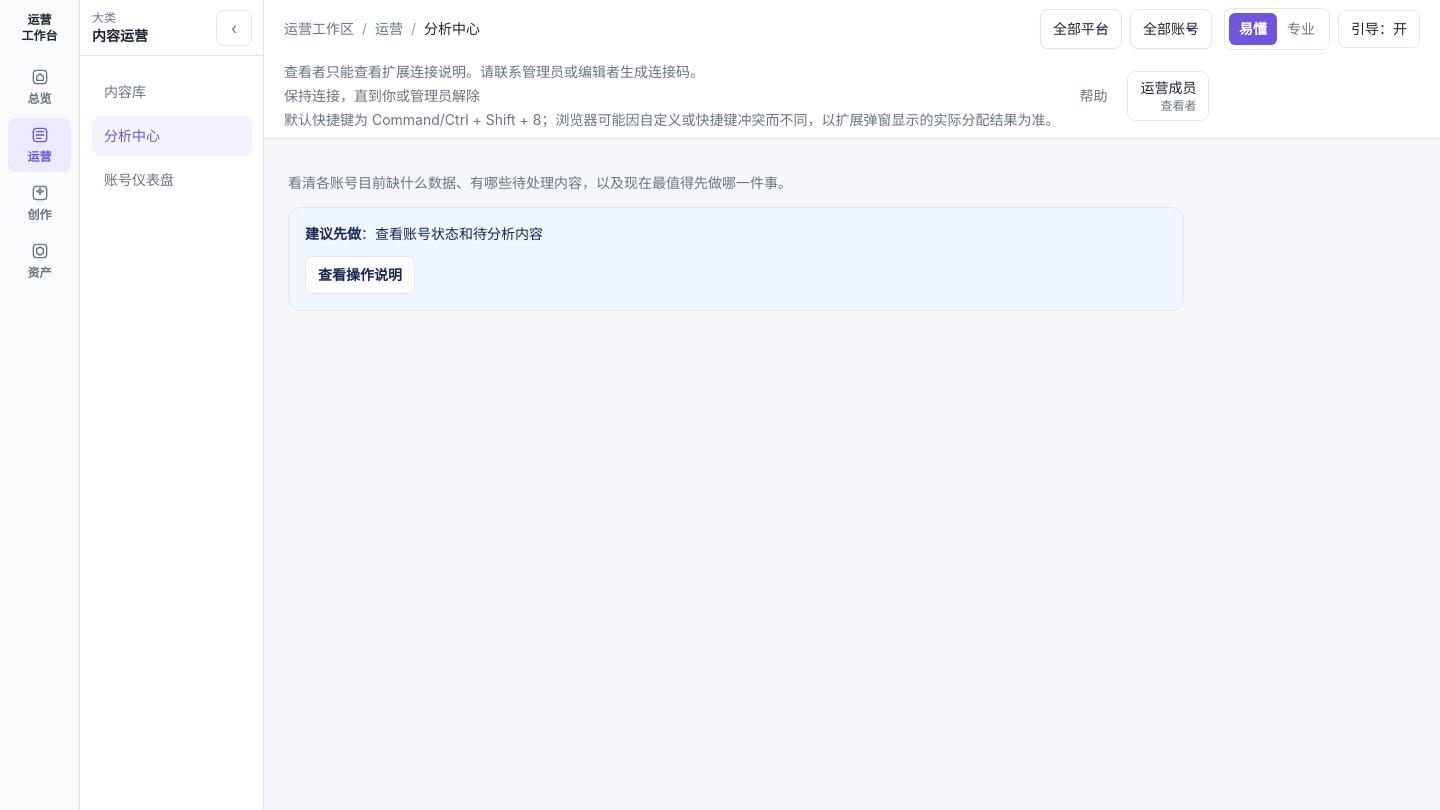
replaces viewer overview blockers with contact guidance
Click the button "查看操作说明".
click(360, 275)  # box [305, 256, 415, 294]
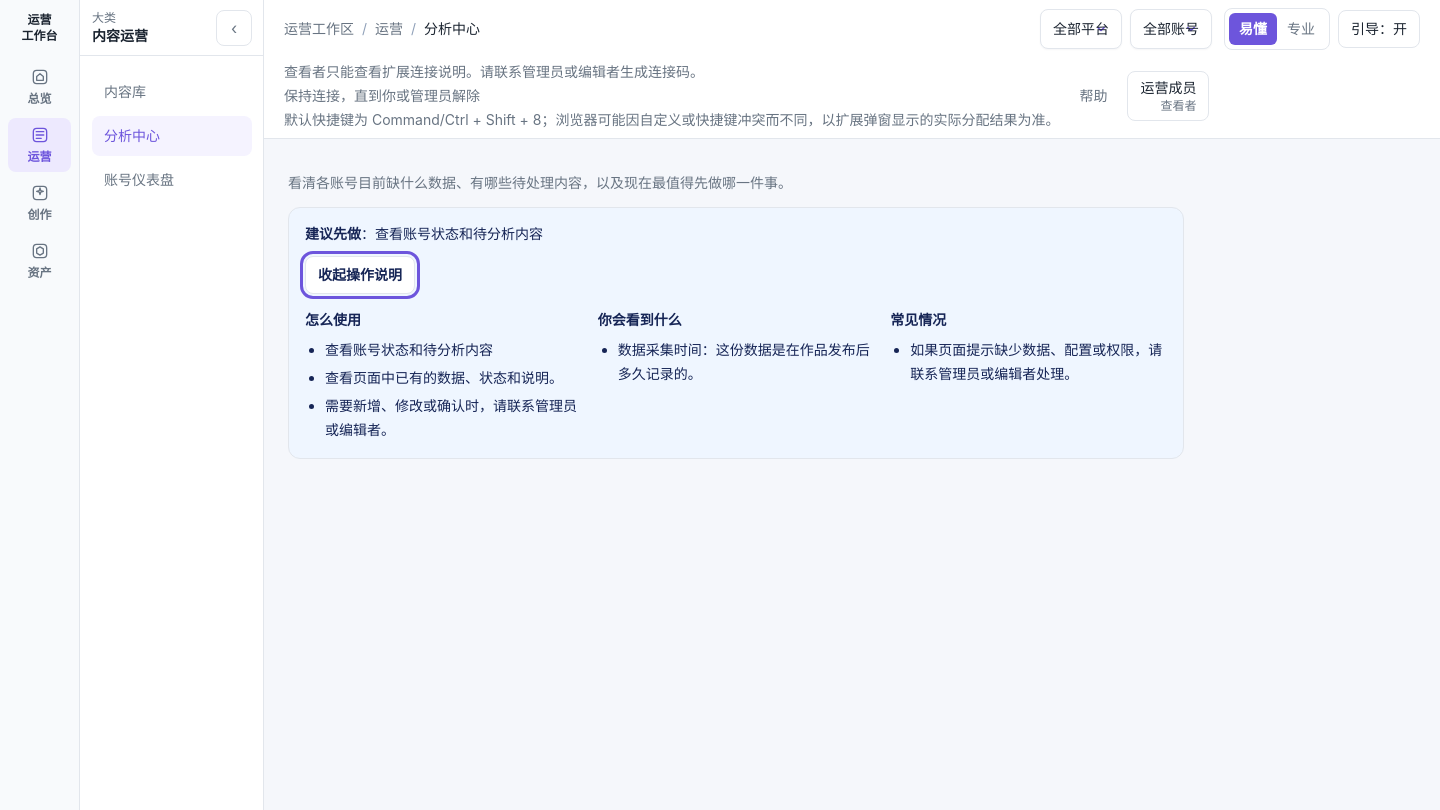
Result: the list item "如果页面提示缺少数据、配置或权限，请联系管理员或编辑者处理。" is shown at [910, 338, 1167, 386]
